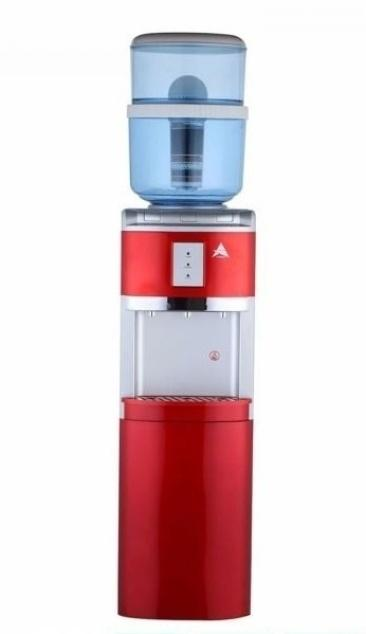Dispenser: (119, 31, 254, 619)
